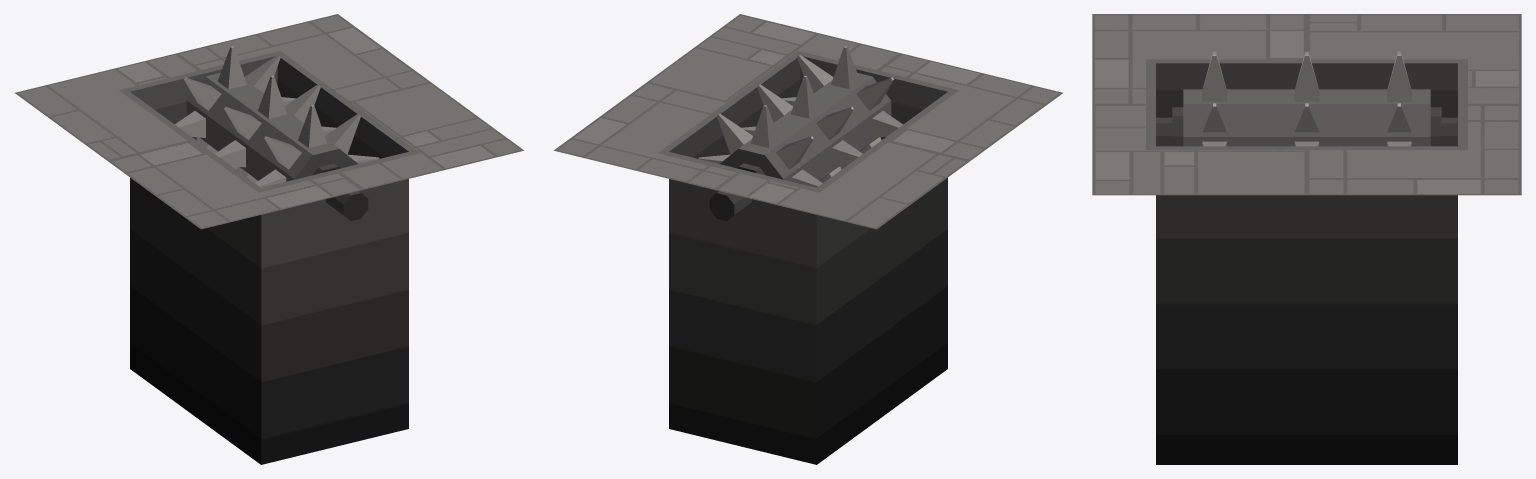
File: SD_Trap_FloorGrinder_01.fbx
The picture shows the model from 3 angles, left to right: view 1: azimuth 30°, elevation 25°; view 2: azimuth 150°, elevation 25°; view 3: azimuth 270°, elevation 25°; orthographic projection. The views are drawn at different scales.
Visible parts, largest first — view 1: SD_Trap_FloorGrinder_01, Grinder_01; view 2: SD_Trap_FloorGrinder_01, Grinder_01; view 3: SD_Trap_FloorGrinder_01, Grinder_01.
Boxes of the visible parts, left/top/right/bottom form: SD_Trap_FloorGrinder_01: left=15, top=14, right=523, bottom=464; Grinder_01: left=175, top=46, right=379, bottom=220; SD_Trap_FloorGrinder_01: left=554, top=14, right=1062, bottom=464; Grinder_01: left=698, top=46, right=902, bottom=220; SD_Trap_FloorGrinder_01: left=1092, top=14, right=1521, bottom=464; Grinder_01: left=1156, top=51, right=1457, bottom=146.
Bounding box in the file's own units: 10 × 9.51 × 10.
